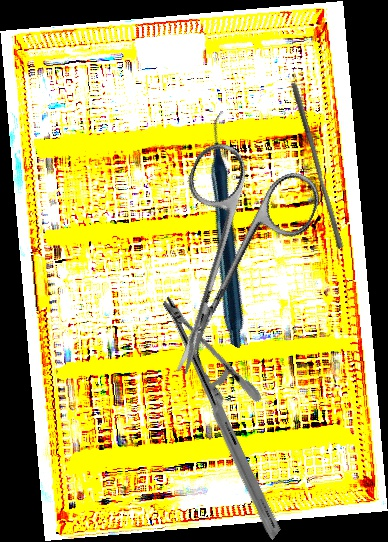Handpiece: (120, 110, 340, 349)
Iris Scissors: (116, 134, 327, 398)
Needle Holder: (88, 295, 354, 540)
Pusher: (284, 81, 350, 250)
